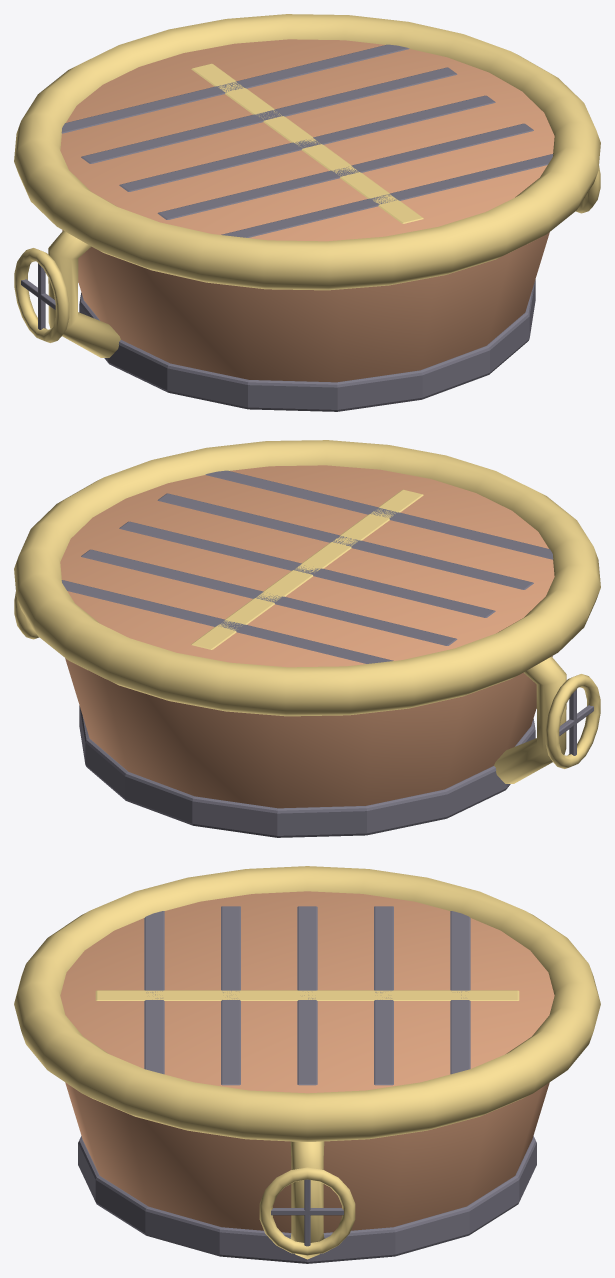
Rendered from steam_vent.glb.
The picture shows the model from 3 angles, top to bottom: view 1: azimuth 30°, elevation 25°; view 2: azimuth 150°, elevation 25°; view 3: azimuth 270°, elevation 25°; orthographic projection.
Visible parts, largest first — view 1: ChimneyBody, CrossGrate, ChimneyBaseBand; view 2: ChimneyBody, CrossGrate, ChimneyBaseBand; view 3: ChimneyBody, CrossGrate, ChimneyBaseBand.
Boxes of the visible parts, x1=… form: ChimneyBody: x1=60, y1=39, x2=554, y2=382; CrossGrate: x1=14, y1=14, x2=600, y2=357; ChimneyBaseBand: x1=21, y1=44, x2=553, y2=411; ChimneyBody: x1=60, y1=465, x2=554, y2=808; CrossGrate: x1=14, y1=440, x2=600, y2=783; ChimneyBaseBand: x1=61, y1=470, x2=593, y2=837; ChimneyBody: x1=60, y1=891, x2=554, y2=1232; CrossGrate: x1=14, y1=866, x2=600, y2=1259; ChimneyBaseBand: x1=78, y1=906, x2=536, y2=1263.
Bounding box in the file's own units: 5.06 × 1.67 × 4.76.
